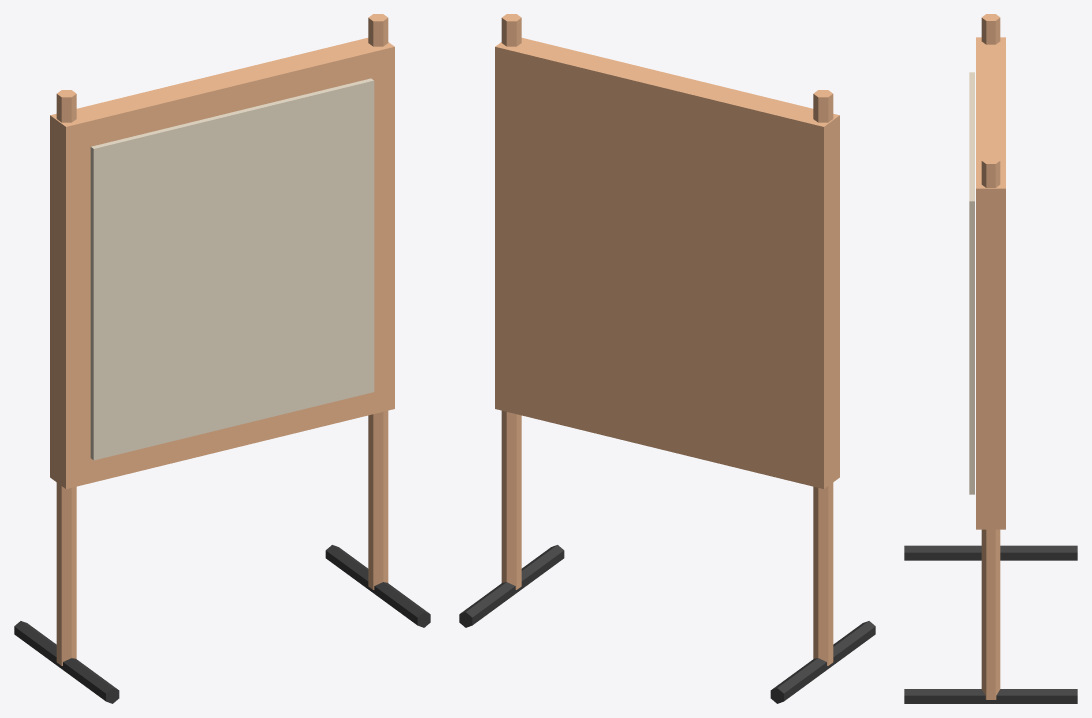
The picture shows the model from 3 angles, left to right: view 1: azimuth 30°, elevation 25°; view 2: azimuth 150°, elevation 25°; view 3: azimuth 270°, elevation 25°; orthographic projection. The views are drawn at different scales.
Parts seen in each view (by area): view 1: Art surface, Frame, Support, Support.001, Foot.001, Foot; view 2: Frame, Support, Support.001, Foot.001, Foot; view 3: Frame, Support.001, Art surface, Foot, Foot.001, Support.
Part boxes in pixels (x1=…): Art surface: x1=90, y1=78, x2=374, y2=460; Frame: x1=50, y1=38, x2=394, y2=488; Support: x1=56, y1=90, x2=76, y2=665; Support.001: x1=368, y1=14, x2=388, y2=589; Foot.001: x1=325, y1=545, x2=430, y2=627; Foot: x1=14, y1=621, x2=119, y2=703; Frame: x1=495, y1=38, x2=839, y2=488; Support: x1=813, y1=90, x2=833, y2=665; Support.001: x1=501, y1=14, x2=521, y2=589; Foot.001: x1=459, y1=545, x2=564, y2=627; Foot: x1=770, y1=621, x2=875, y2=703; Frame: x1=976, y1=37, x2=1005, y2=529; Support.001: x1=981, y1=157, x2=1000, y2=699; Art surface: x1=969, y1=72, x2=974, y2=494; Foot: x1=904, y1=545, x2=1077, y2=560; Foot.001: x1=904, y1=689, x2=1077, y2=703; Support: x1=981, y1=14, x2=1000, y2=44.
Size of the model in its own units: 0.95 by 1.59 by 0.46.
Materials: 1 (1 with a texture image).
